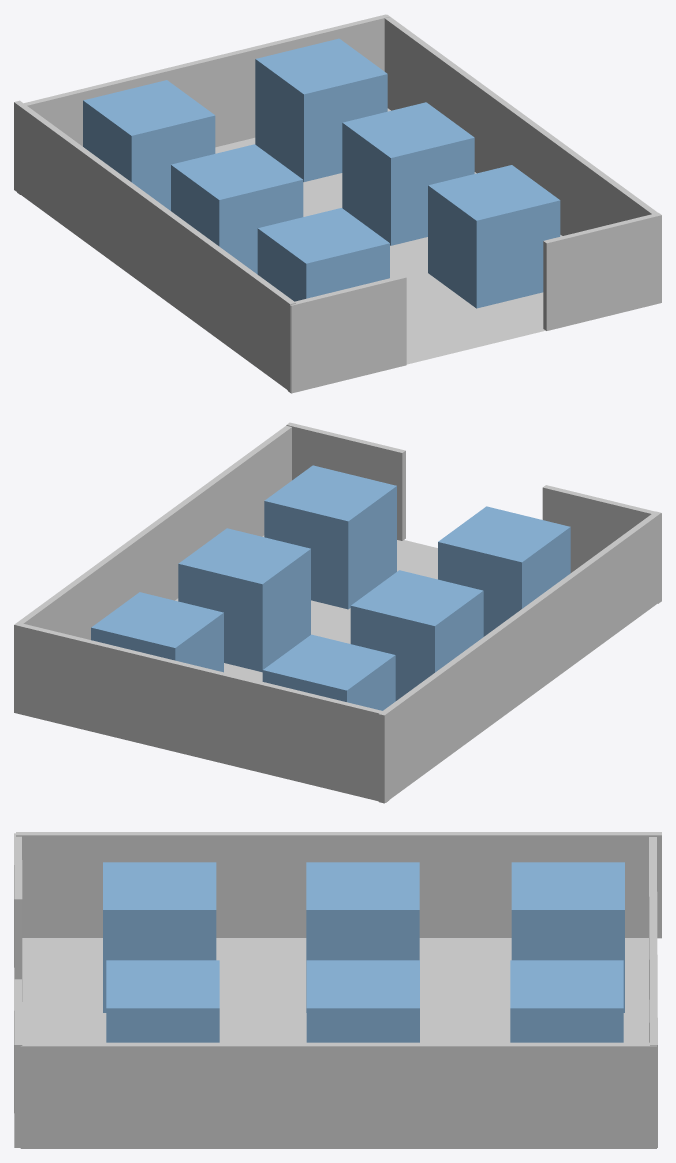
Rendered from FactoryDemo.gltf.
3 views of the same model, one above another, from view 1: azimuth 30°, elevation 25°; view 2: azimuth 150°, elevation 25°; view 3: azimuth 270°, elevation 25° (orthographic). The views are drawn at different scales.
Parts seen in each view (by area): view 1: Cube.007_Cube.008, Cube.003_Cube.004, Cube.005_Cube.006, Cube.004_Cube.005, Cube.001_Cube.002, Cube_Cube.001, Cube.002_Cube.003; view 2: Cube.007_Cube.008, Cube.004_Cube.005, Cube.003_Cube.004, Cube_Cube.001, Cube.002_Cube.003, Cube.005_Cube.006, Cube.001_Cube.002; view 3: Cube.007_Cube.008, Cube.002_Cube.003, Cube.001_Cube.002, Cube_Cube.001, Cube.003_Cube.004, Cube.004_Cube.005, Cube.005_Cube.006.
Boxes of the visible parts, bbox=[...] form: Cube.007_Cube.008: bbox=[14, 14, 661, 393]; Cube.003_Cube.004: bbox=[428, 165, 560, 308]; Cube.005_Cube.006: bbox=[255, 38, 387, 181]; Cube.004_Cube.005: bbox=[342, 102, 474, 245]; Cube.001_Cube.002: bbox=[83, 80, 215, 210]; Cube_Cube.001: bbox=[171, 144, 303, 274]; Cube.002_Cube.003: bbox=[257, 208, 389, 301]; Cube.007_Cube.008: bbox=[14, 422, 661, 803]; Cube.004_Cube.005: bbox=[178, 528, 310, 672]; Cube.003_Cube.004: bbox=[264, 465, 396, 609]; Cube_Cube.001: bbox=[350, 570, 483, 700]; Cube.002_Cube.003: bbox=[438, 506, 570, 636]; Cube.005_Cube.006: bbox=[91, 592, 223, 672]; Cube.001_Cube.002: bbox=[262, 634, 395, 710]; Cube.007_Cube.008: bbox=[14, 832, 661, 1148]; Cube.002_Cube.003: bbox=[103, 862, 216, 1012]; Cube.001_Cube.002: bbox=[511, 862, 624, 1012]; Cube_Cube.001: bbox=[306, 862, 419, 1012]; Cube.003_Cube.004: bbox=[106, 960, 219, 1042]; Cube.004_Cube.005: bbox=[306, 960, 419, 1042]; Cube.005_Cube.006: bbox=[510, 960, 623, 1042].
Bounding box in the file's own units: 8.86 × 2.04 × 11.43.
